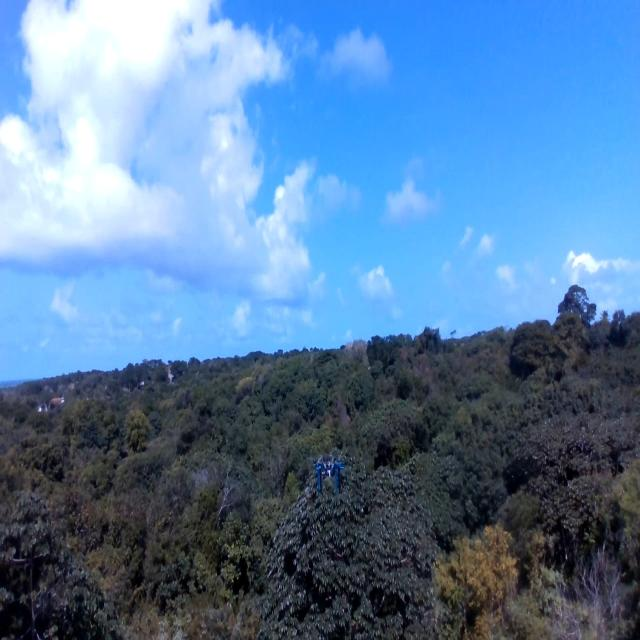-uav-: (306, 442, 350, 510)
